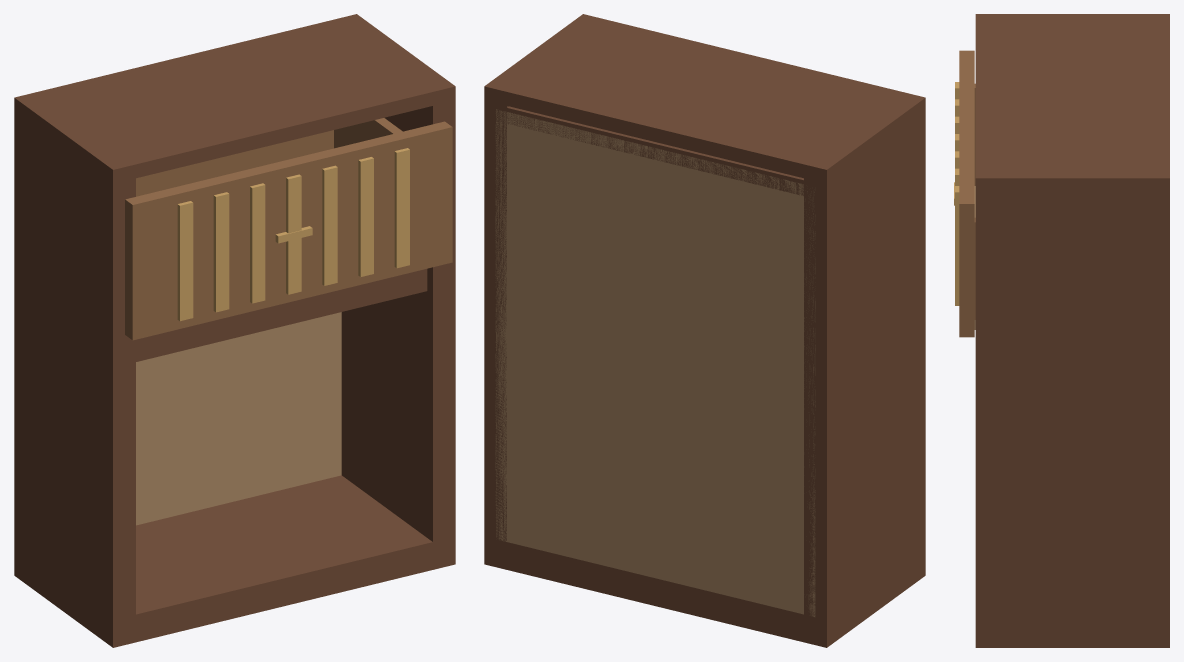
3 views of the same model, side by side, from view 1: azimuth 30°, elevation 25°; view 2: azimuth 150°, elevation 25°; view 3: azimuth 270°, elevation 25° (orthographic).
Parts seen in each view (by area): view 1: cabinet-side-left, cabinet-top, drawer-front, cabinet-bottom, cabinet-inner-back, cabinet-side-right, cabinet-drawer-divider, drawer-back, drawer-slat-1, drawer-slat-2, drawer-slat-7, drawer-slat-5 (+4 smaller); view 2: cabinet-inner-back, cabinet-side-left, cabinet-top, cabinet-bottom, cabinet-side-right, cabinet-back-rail; view 3: cabinet-side-right, cabinet-top, drawer-front, cabinet-bottom, drawer-slat-7.
Boxes of the visible parts, x1=… form: cabinet-side-left: x1=14, y1=110, x2=135, y2=627; cabinet-top: x1=14, y1=14, x2=455, y2=183; drawer-front: x1=125, y1=121, x2=452, y2=340; cabinet-bottom: x1=14, y1=475, x2=455, y2=647; cabinet-inner-back: x1=136, y1=312, x2=341, y2=525; cabinet-side-right: x1=341, y1=98, x2=455, y2=549; cabinet-drawer-divider: x1=136, y1=269, x2=427, y2=361; drawer-back: x1=136, y1=130, x2=333, y2=196; drawer-slat-1: x1=177, y1=201, x2=193, y2=321; drawer-slat-2: x1=213, y1=192, x2=229, y2=312; drawer-slat-7: x1=394, y1=148, x2=409, y2=268; drawer-slat-5: x1=322, y1=165, x2=337, y2=285; cabinet-inner-back: x1=495, y1=109, x2=815, y2=616; cabinet-side-left: x1=804, y1=110, x2=925, y2=625; cabinet-top: x1=484, y1=14, x2=925, y2=183; cabinet-bottom: x1=484, y1=538, x2=925, y2=647; cabinet-side-right: x1=484, y1=98, x2=508, y2=549; cabinet-back-rail: x1=495, y1=105, x2=815, y2=198; cabinet-side-right: x1=975, y1=190, x2=1169, y2=628; cabinet-top: x1=975, y1=14, x2=1169, y2=191; drawer-front: x1=959, y1=50, x2=974, y2=337; cabinet-bottom: x1=975, y1=621, x2=1169, y2=647; drawer-slat-7: x1=955, y1=186, x2=959, y2=305.
Size of the model in its own units: 0.9 by 1.2 by 0.5.
